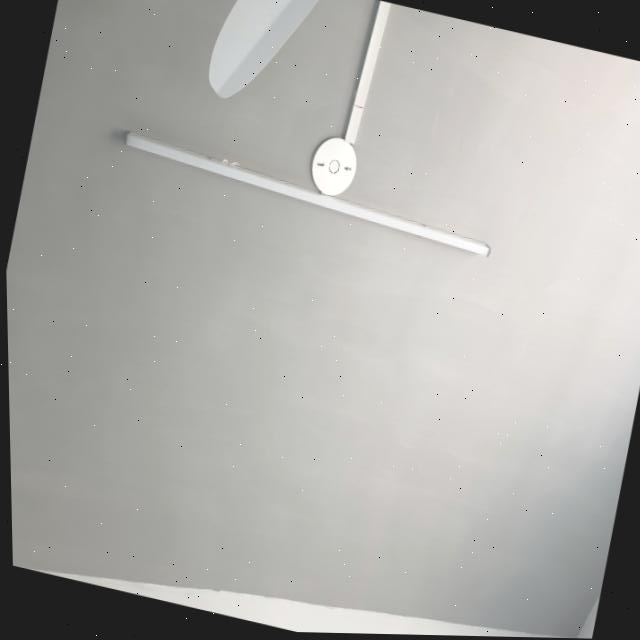fluorescent tube: (96, 112, 514, 290)
